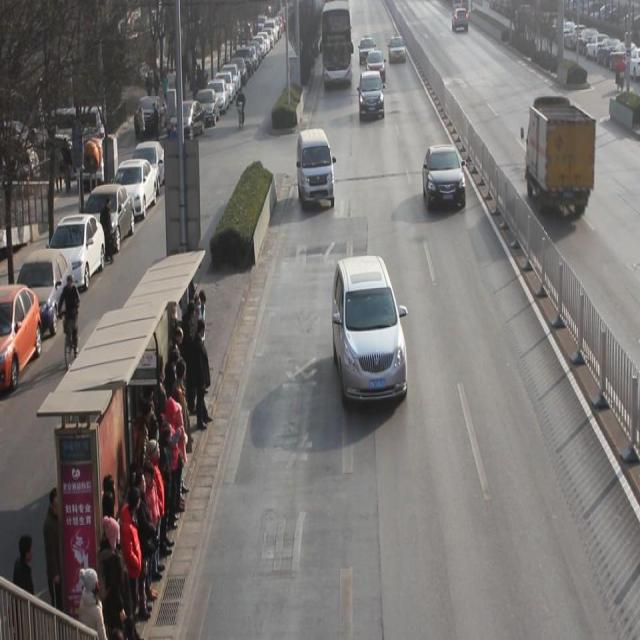bus: (527, 94, 596, 220)
car: (333, 255, 408, 408), (423, 144, 468, 212), (360, 69, 386, 123), (366, 48, 386, 82)
truck: (297, 127, 335, 210)
van: (322, 1, 353, 87)
